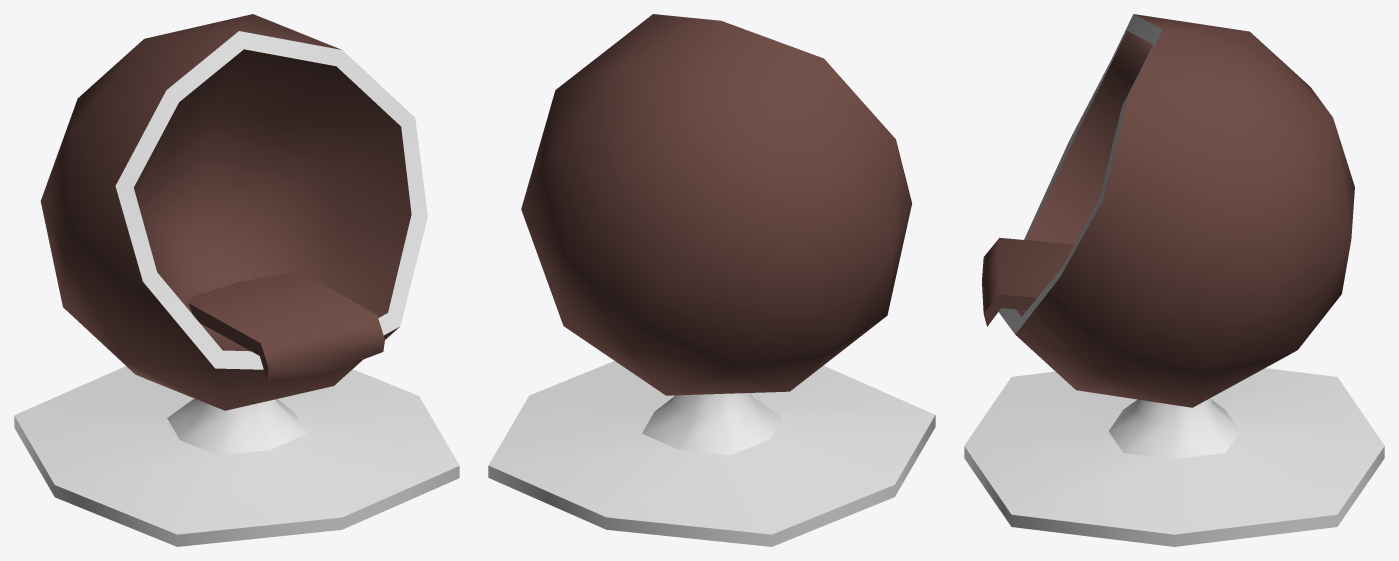
File: SM_Chair_002.fbx
The picture shows the model from 3 angles, left to right: view 1: azimuth 30°, elevation 25°; view 2: azimuth 150°, elevation 25°; view 3: azimuth 270°, elevation 25°; orthographic projection.
Parts seen in each view (by area): view 1: Chair_Ball, SM_Chair_002; view 2: Chair_Ball, SM_Chair_002; view 3: Chair_Ball, SM_Chair_002.
Boxes of the visible parts, x1,y1,x2,y2 form: Chair_Ball: [40, 14, 427, 410]; SM_Chair_002: [14, 366, 459, 546]; Chair_Ball: [521, 14, 912, 395]; SM_Chair_002: [488, 361, 935, 546]; Chair_Ball: [982, 14, 1354, 407]; SM_Chair_002: [964, 368, 1384, 546].
Size of the model in its own units: 0.8962 by 1 by 0.8962.
